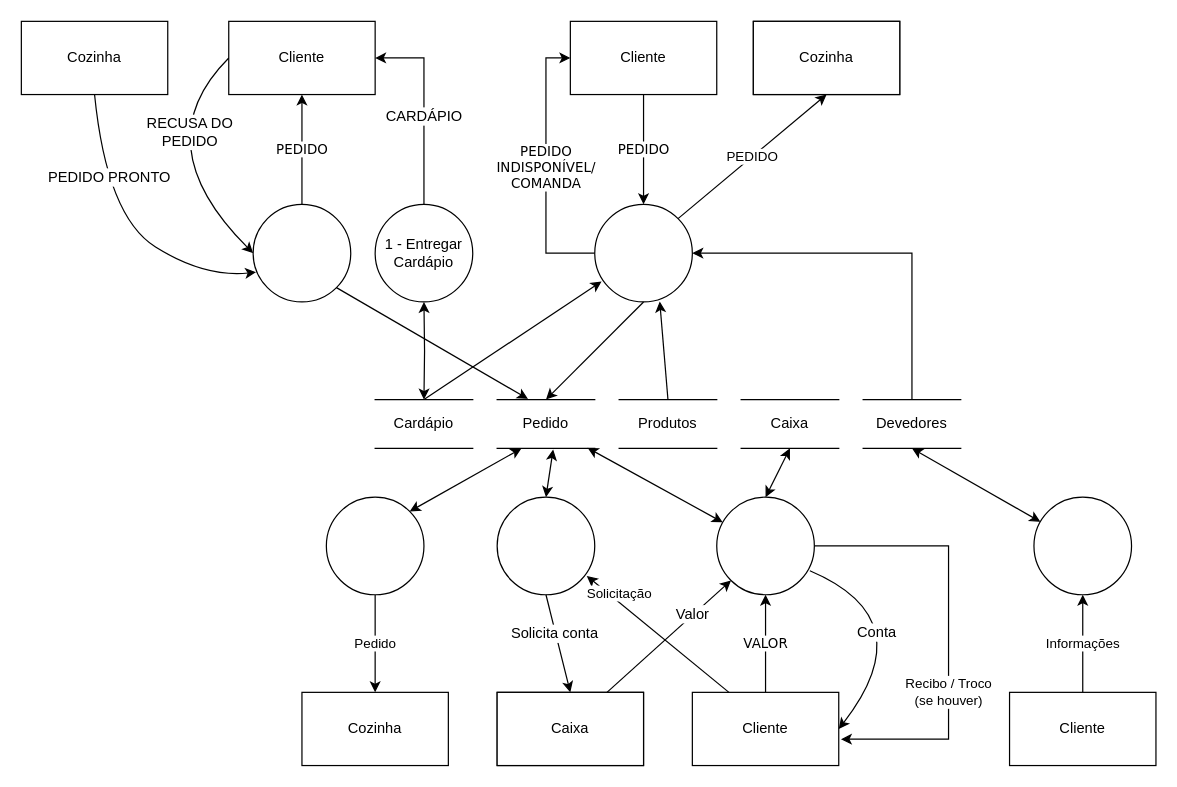
The diagram is 1177 pixels wide and 787 high, and some of its shapes have lost their labels. The shapes that lost their labels are listed below. From the top down, each one's centre as x and y in pixels, then its label:
point 301,252: 4 - Entregar pedido
point 643,252: 2 - Anotar Pedido
point 374,545: 3 - Solicitar preparo
point 545,545: 5 - Solicitar valor total
point 765,545: 6 - Receber pagamento
point 1082,545: 7 - Registrar devedor
